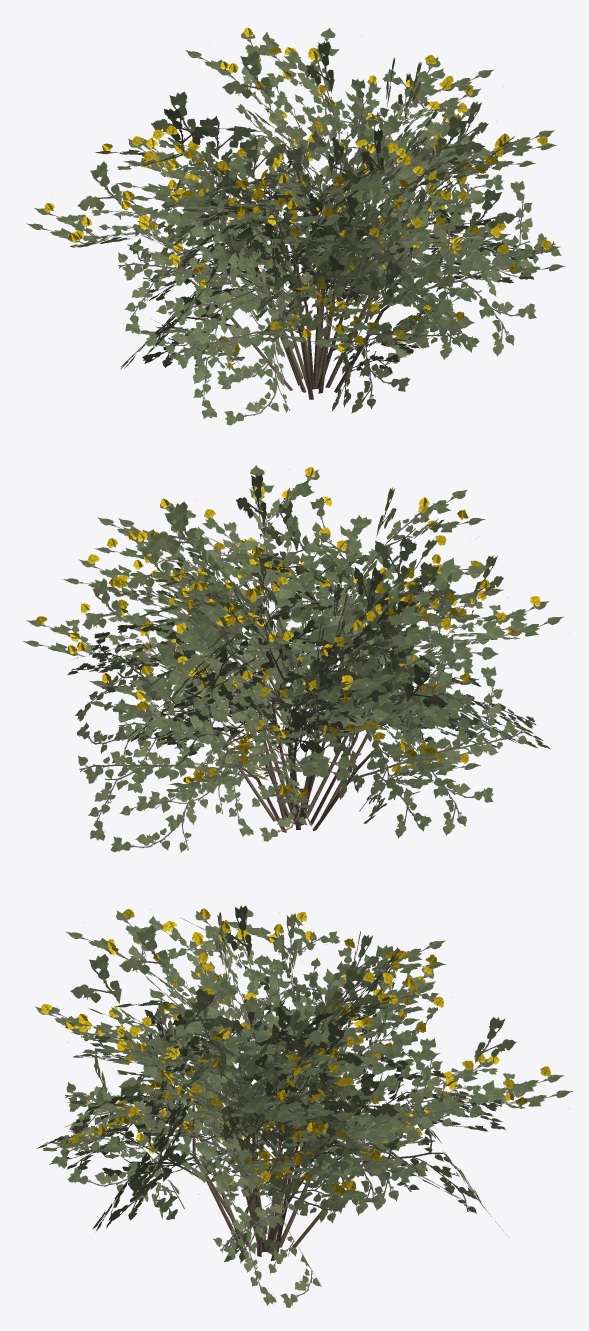
The model's file is Fremontodendron_Californicum_Spring_Young.glb.
3 views of the same model, one above another, from view 1: azimuth 30°, elevation 25°; view 2: azimuth 150°, elevation 25°; view 3: azimuth 270°, elevation 25° (orthographic). The views are drawn at different scales.
Visible parts, largest first — view 1: Fremontodendron_Californicum_Spring_Young__LOD3; view 2: Fremontodendron_Californicum_Spring_Young__LOD3; view 3: Fremontodendron_Californicum_Spring_Young__LOD3.
Boxes of the visible parts, x1,y1,x2,y2 form: Fremontodendron_Californicum_Spring_Young__LOD3: (26, 27, 564, 425); Fremontodendron_Californicum_Spring_Young__LOD3: (22, 465, 569, 852); Fremontodendron_Californicum_Spring_Young__LOD3: (35, 905, 572, 1307).
Bounding box in the file's own units: 2.31 × 1.49 × 2.34.
Materials: 3 (3 with a texture image).
